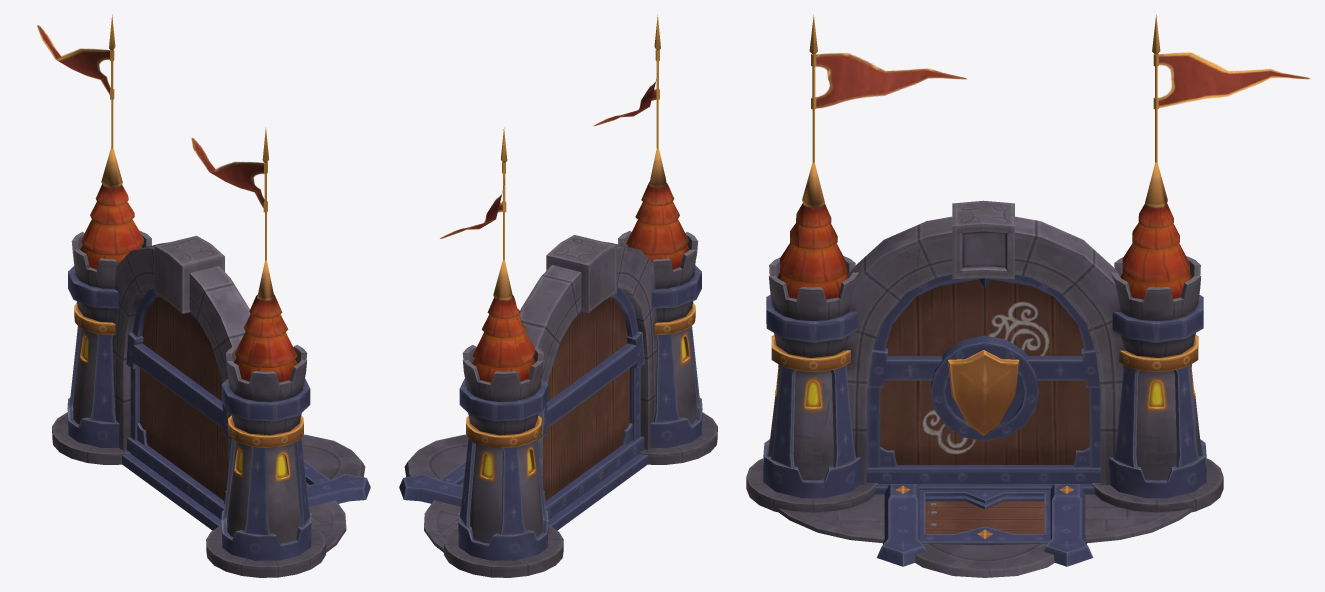
File: BLD_CellariaGate.glb
The picture shows the model from 3 angles, left to right: view 1: azimuth 30°, elevation 25°; view 2: azimuth 150°, elevation 25°; view 3: azimuth 270°, elevation 25°; orthographic projection. The views are drawn at different scales.
Parts seen in each view (by area): view 1: Object_2; view 2: Object_2; view 3: Object_2.
Part boxes in pixels (left/top/right/bottom): Object_2: left=37, top=14, right=370, bottom=577; Object_2: left=399, top=15, right=717, bottom=577; Object_2: left=746, top=14, right=1309, bottom=577.
Bounding box in the file's own units: 3.15 × 5.89 × 6.34.
1 material, 1 textured.
